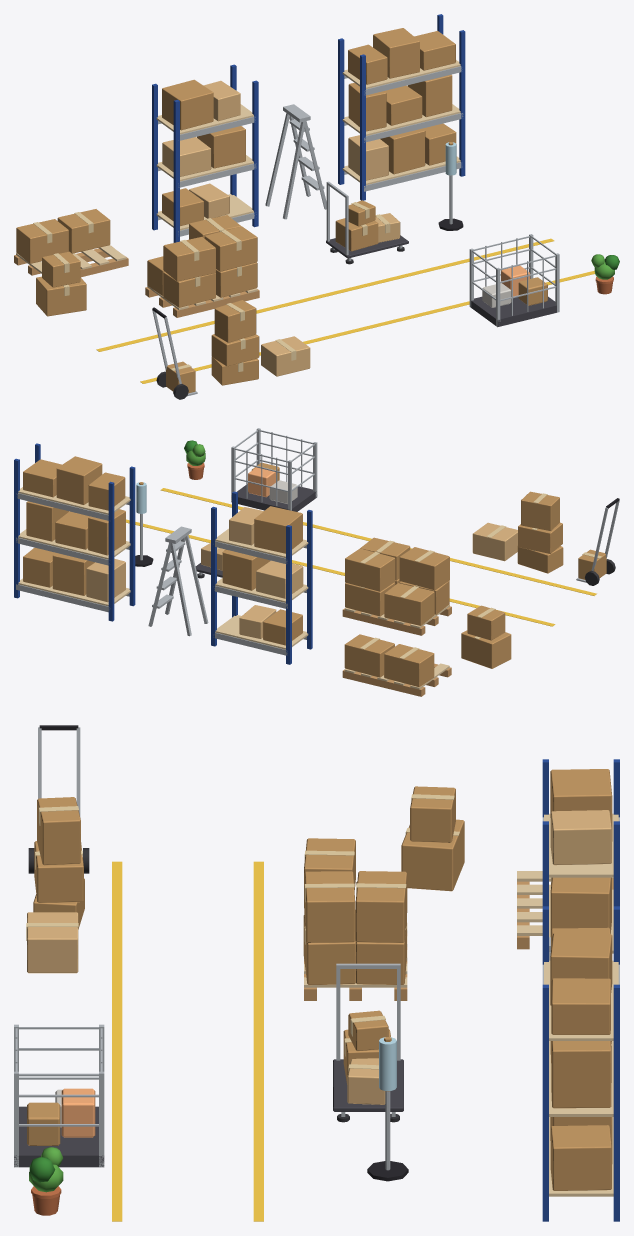
File: einrichtung_lager.glb
3 renders of one model, top to bottom at view 1: azimuth 30°, elevation 25°; view 2: azimuth 150°, elevation 25°; view 3: azimuth 270°, elevation 25°, orthographic. The views are drawn at different scales.
Visible parts, largest first — view 1: einrichtung_lager; view 2: einrichtung_lager; view 3: einrichtung_lager.
Part boxes in pixels (x1=…): einrichtung_lager: x1=14, y1=14, x2=619, y2=399; einrichtung_lager: x1=14, y1=428, x2=619, y2=696; einrichtung_lager: x1=14, y1=725, x2=619, y2=1221.
Size of the model in its own units: 6.65 by 2 by 4.7.
